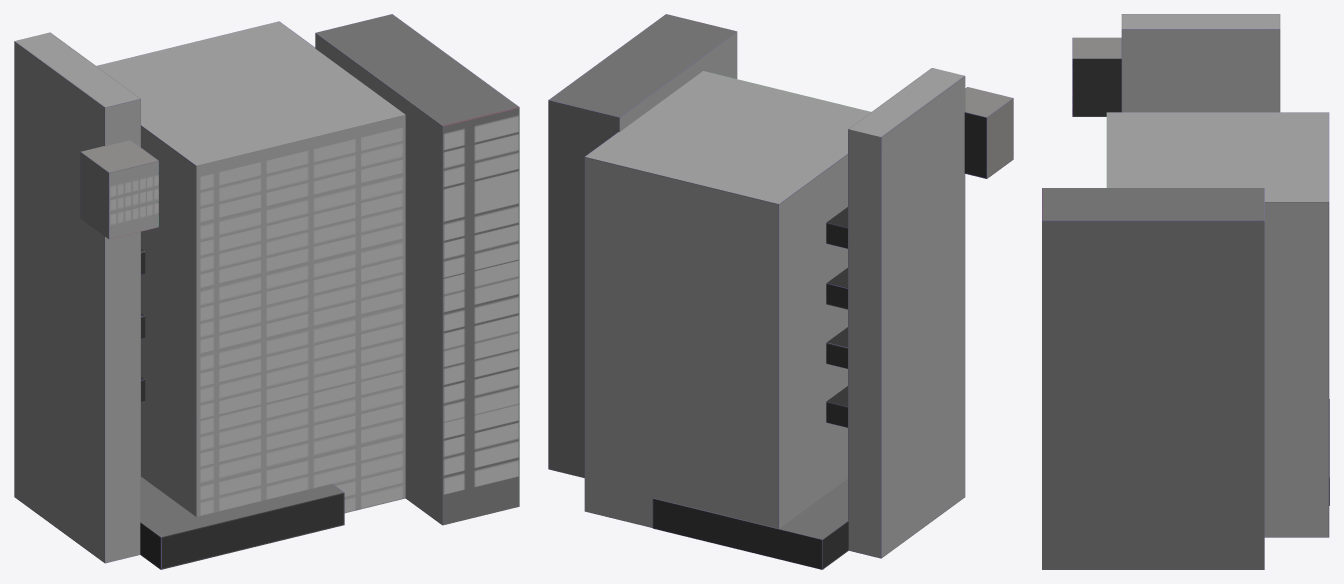
Rendered from blok4.fbx.
3 renders of one model, left to right at view 1: azimuth 30°, elevation 25°; view 2: azimuth 150°, elevation 25°; view 3: azimuth 270°, elevation 25°, orthographic. The views are drawn at different scales.
Parts seen in each view (by area): view 1: pCube1, pCube2, group1, pCube9, pCube8; view 2: pCube1, group1, pCube2, pCube9, pCube8, pCube4, pCube7, pCube6, pCube5; view 3: pCube2, pCube1, group1, pCube8.
Part boxes in pixels (x1,y1,x2,y2): pCube1: (97,21,405,516); pCube2: (315,14,519,525); group1: (14,32,140,563); pCube9: (140,477,344,569); pCube8: (80,140,158,239); pCube1: (584,71,870,528); group1: (848,68,965,558); pCube2: (548,14,737,477); pCube9: (652,478,848,569); pCube8: (964,87,1013,178); pCube4: (826,268,847,309); pCube7: (826,386,847,427); pCube6: (826,327,847,368); pCube5: (826,207,847,248); pCube2: (1042,188,1264,569); pCube1: (1106,112,1329,537); group1: (1121,14,1280,112); pCube8: (1072,37,1121,116).
Bounding box in the file's own units: 44.15 × 48.91 × 32.01.
Materials: 1 (1 with a texture image).
